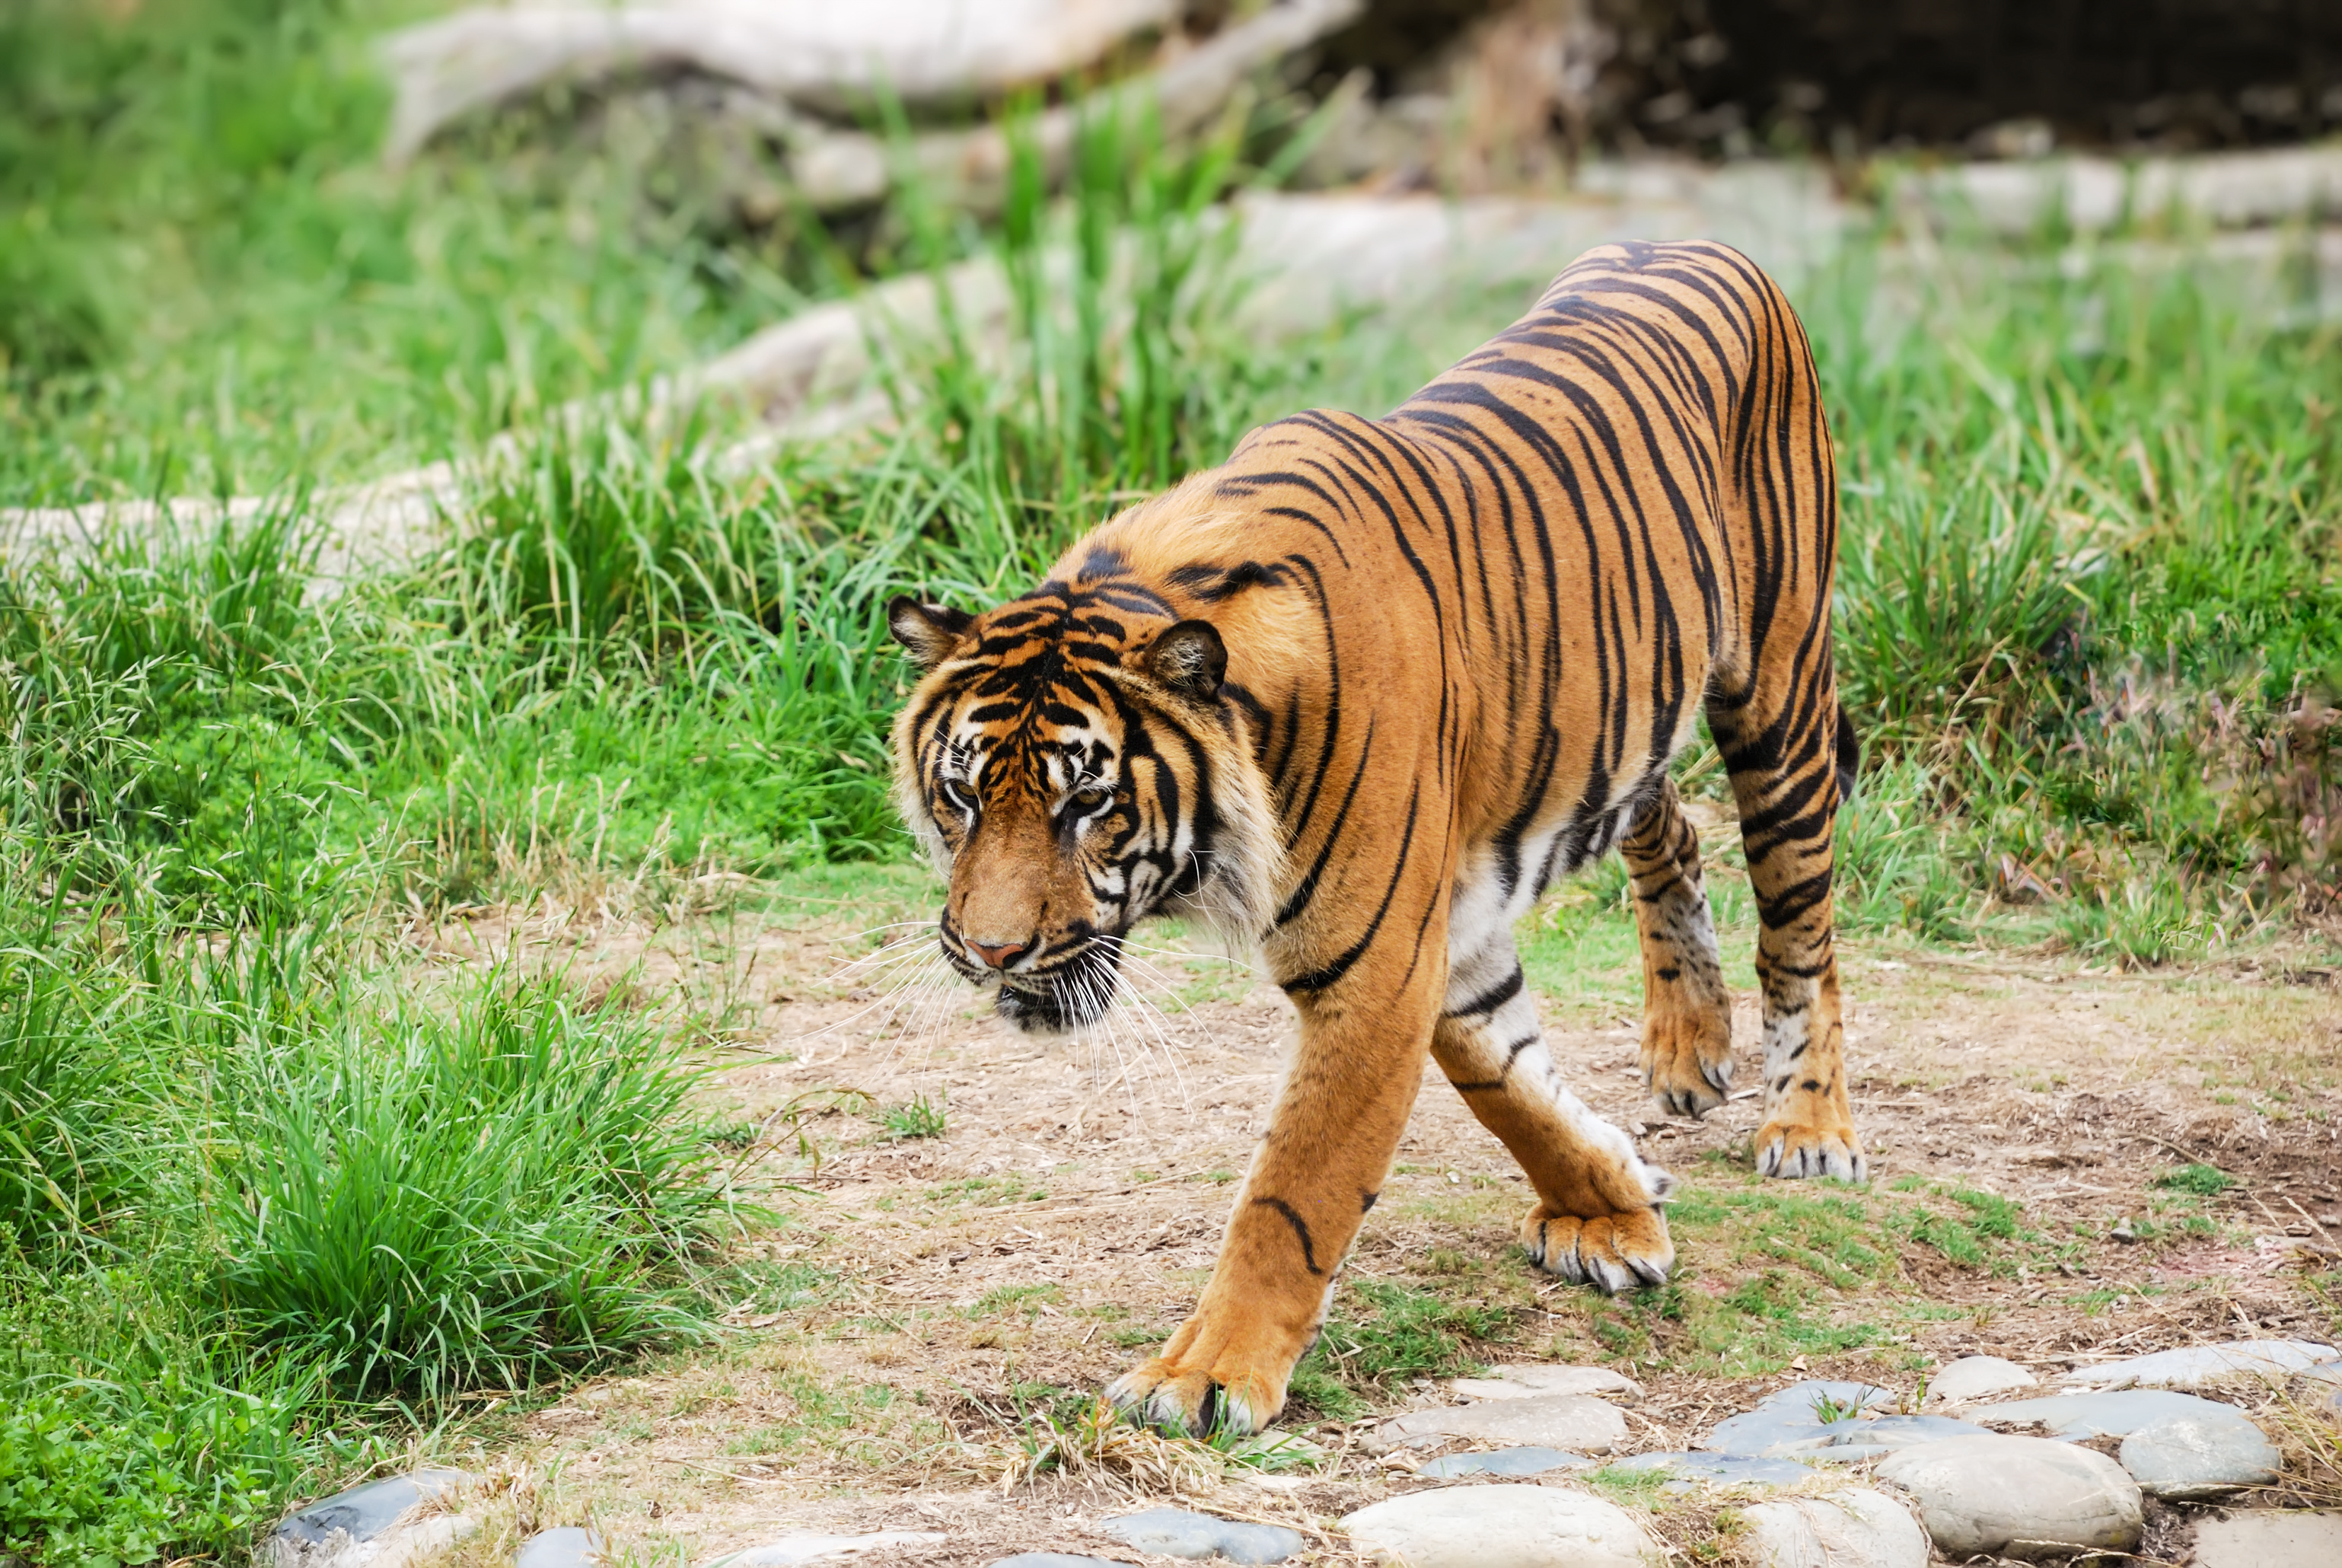tiger: (864, 262, 1901, 1381)
